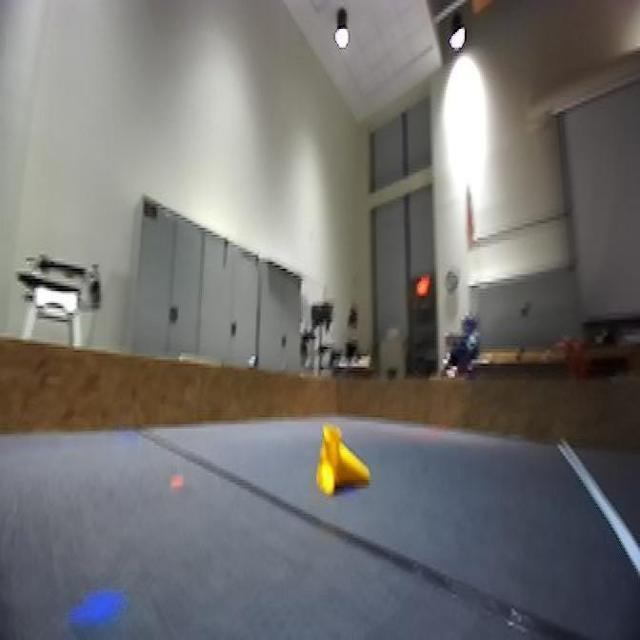frc_cone: (312, 427, 366, 499)
